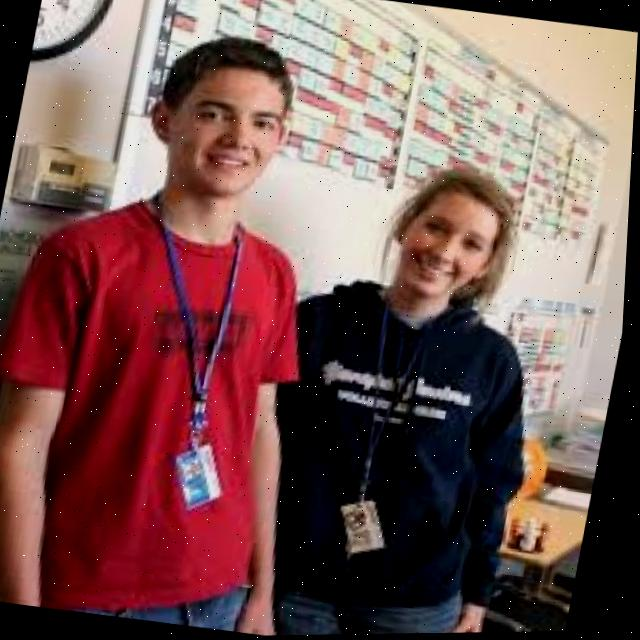id_card: (101, 191, 299, 524), (321, 287, 452, 572)
